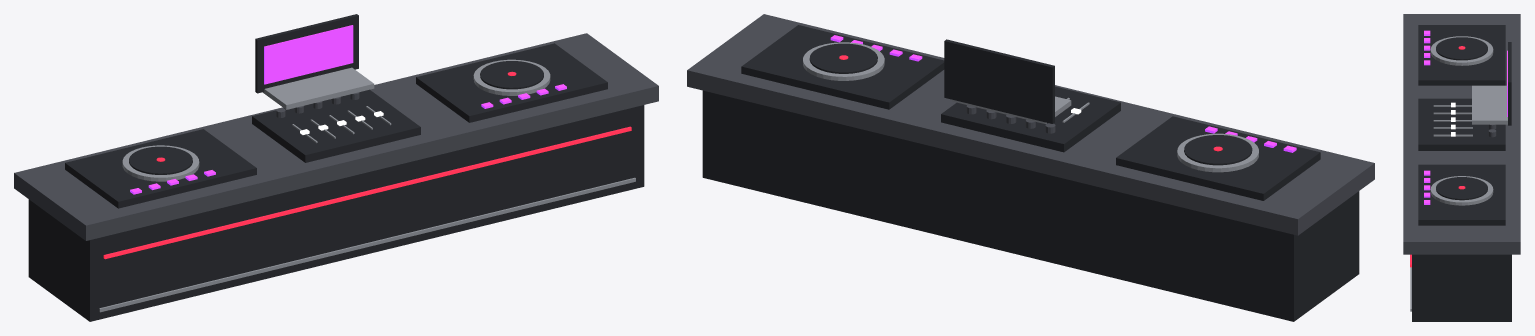
Rendered from dj_console.glb.
3 views of the same model, side by side, from view 1: azimuth 30°, elevation 25°; view 2: azimuth 150°, elevation 25°; view 3: azimuth 270°, elevation 25° (orthographic). The views are drawn at different scales.
Parts seen in each view (by area): view 1: dj_console; view 2: dj_console; view 3: dj_console.
Part boxes in pixels (box(x1,y1,x2,y2)): dj_console: box(14, 14, 658, 321); dj_console: box(687, 14, 1374, 321); dj_console: box(1403, 14, 1520, 321).
Bounding box in the file's own units: 6.2 × 1.89 × 1.35.
